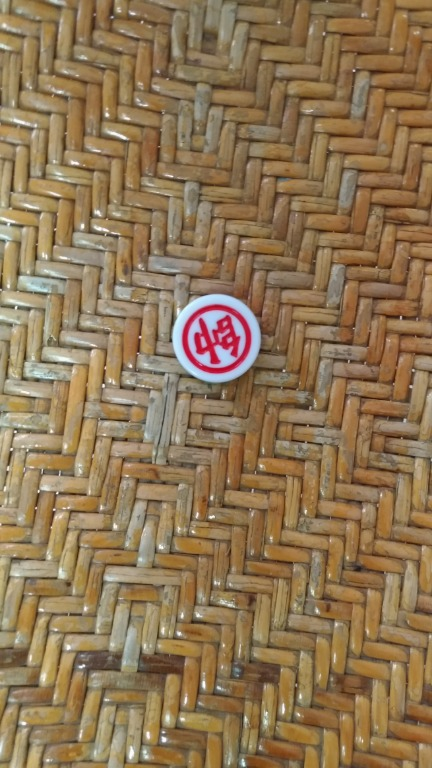r-king: (169, 291, 267, 383)
